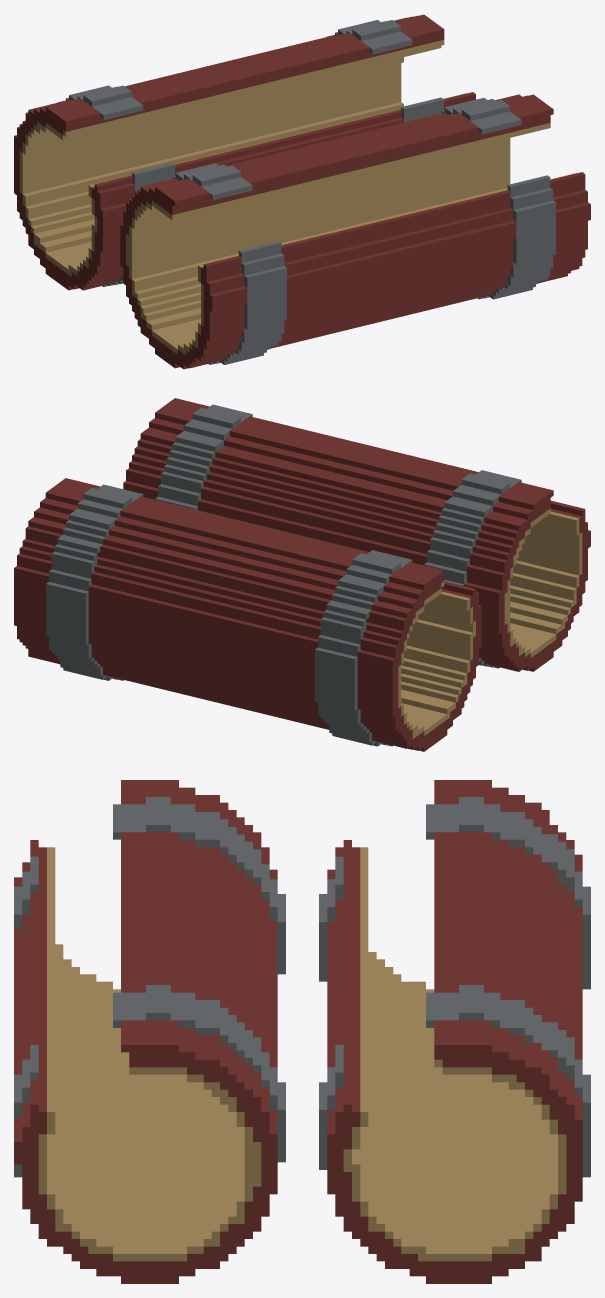
Rendered from carpet_greaves.glb.
The picture shows the model from 3 angles, top to bottom: view 1: azimuth 30°, elevation 25°; view 2: azimuth 150°, elevation 25°; view 3: azimuth 270°, elevation 25°; orthographic projection. The views are drawn at different scales.
Parts seen in each view (by area): view 1: carpet_greaves:compound; view 2: carpet_greaves:compound; view 3: carpet_greaves:compound.
Part boxes in pixels (left/top/right/bottom): carpet_greaves:compound: left=14, top=14, right=590, bottom=369; carpet_greaves:compound: left=14, top=398, right=590, bottom=751; carpet_greaves:compound: left=14, top=780, right=590, bottom=1283.
Size of the model in its own units: 0.304 by 0.136 by 0.28.
